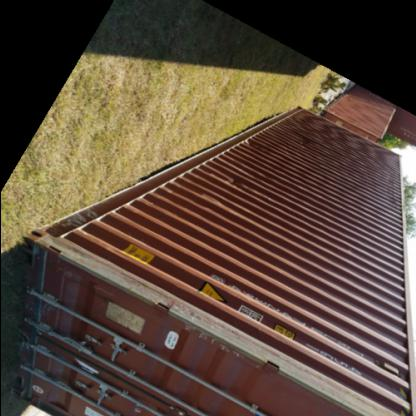Damage: (179, 313, 265, 365), (216, 172, 254, 198), (296, 127, 320, 153), (244, 132, 274, 152)
